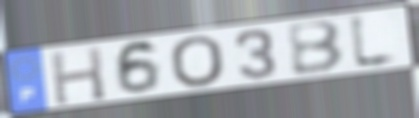3: (232, 27, 280, 82)
6: (112, 38, 165, 98)
B: (283, 18, 347, 78)
H: (48, 45, 109, 107)
L: (347, 11, 404, 72)
O: (167, 34, 227, 90)
